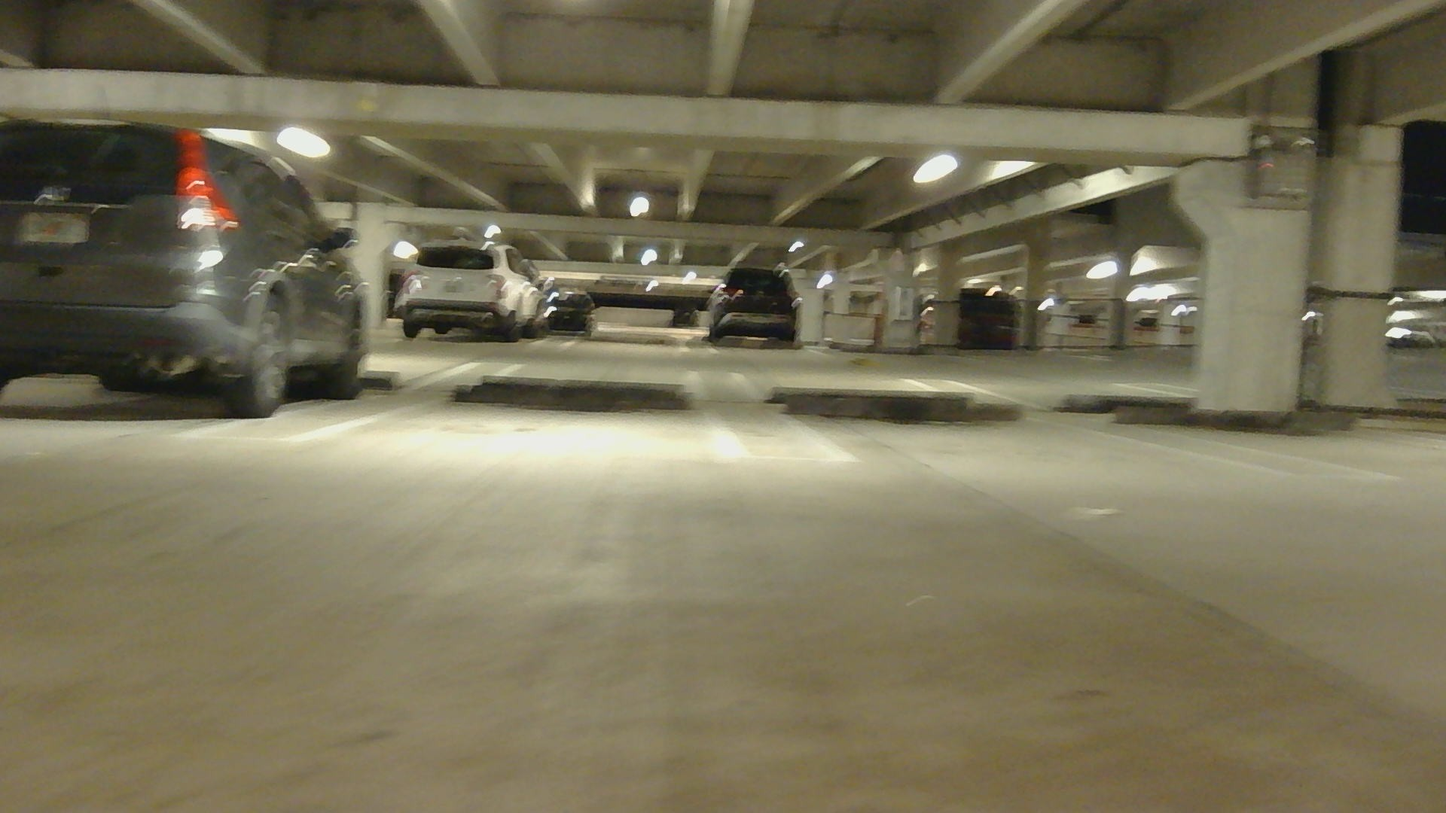empty_spot: (1080, 316, 1446, 495), (751, 395, 1320, 476), (262, 376, 776, 462)
occupied_spot: (0, 113, 370, 418)
